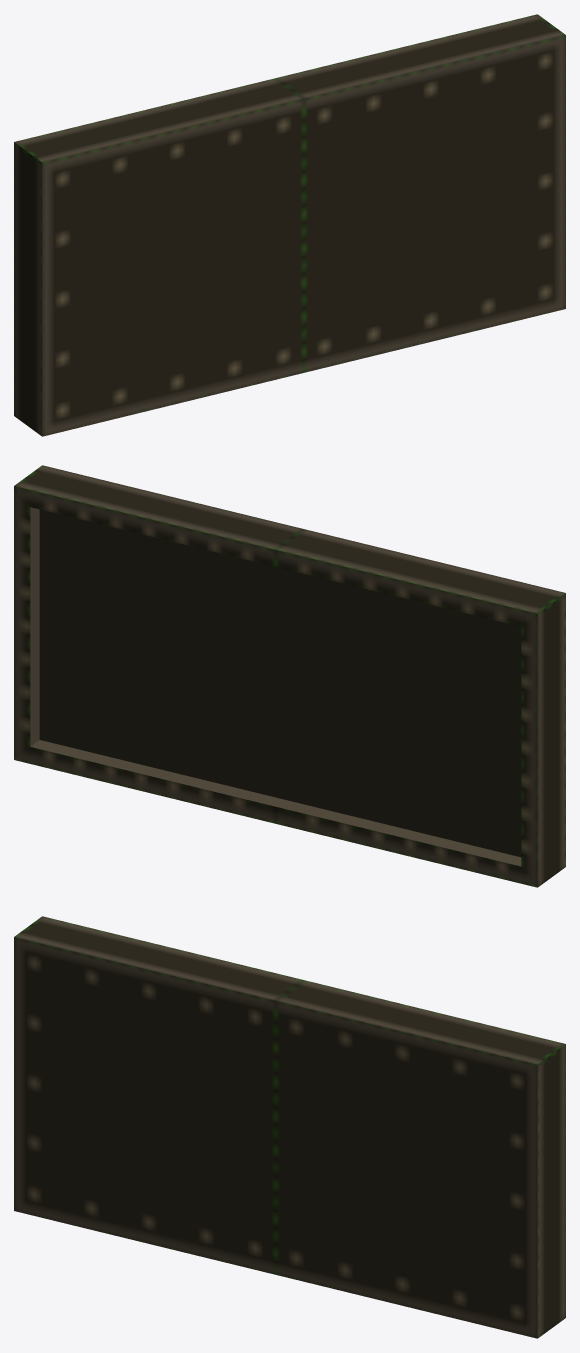
Rendered from Sign (2).fbx.
3 views of the same model, one above another, from view 1: azimuth 30°, elevation 25°; view 2: azimuth 150°, elevation 25°; view 3: azimuth 330°, elevation 25° (orthographic).
Visible parts, largest first — view 1: Signal.002; view 2: Signal.002; view 3: Signal.002.
Part boxes in pixels (x1=…): Signal.002: x1=14, y1=14, x2=565, y2=436; Signal.002: x1=14, y1=465, x2=565, y2=887; Signal.002: x1=14, y1=916, x2=565, y2=1338.
Size of the model in its own units: 200 by 100 by 18.75.
